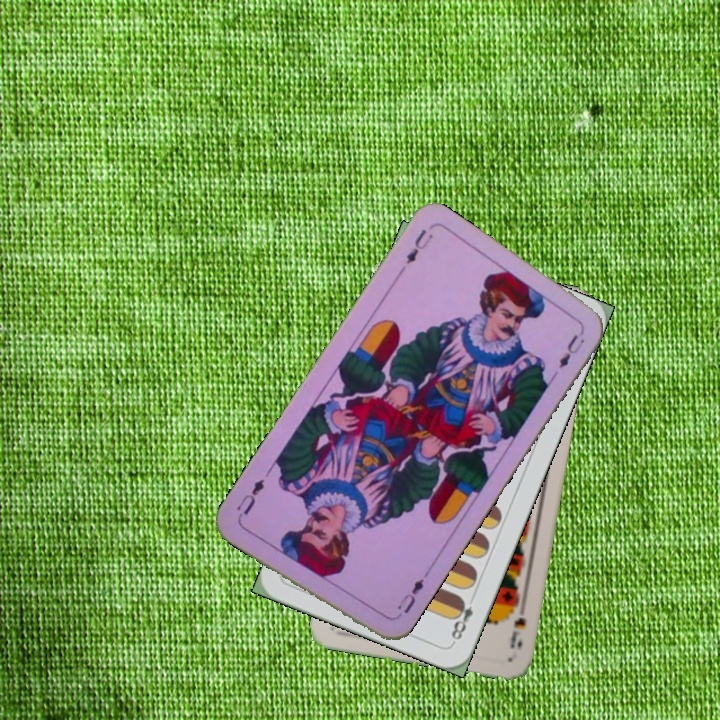E8: (447, 594, 476, 646)
EU: (390, 574, 427, 622), (402, 225, 436, 267)
S9: (506, 596, 529, 653)
